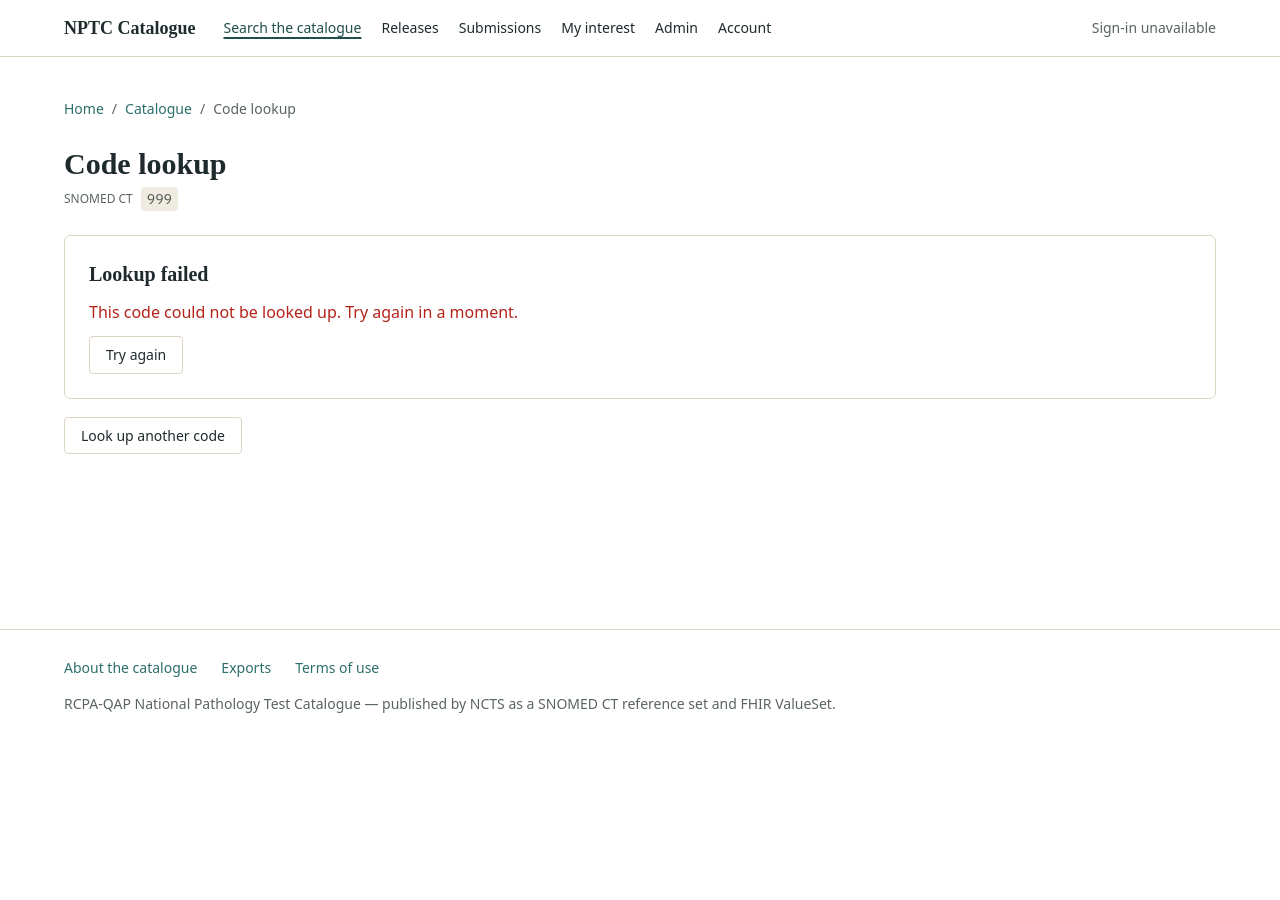
Test: a lookup the server refuses or cannot answer › shows the no-match answer when a retry finds the code has no entry
Expected: the element "Lookup failed" is shown, [64, 234, 1216, 398]
Click the button "Try again": x=136, y=354 [89, 336, 183, 374]
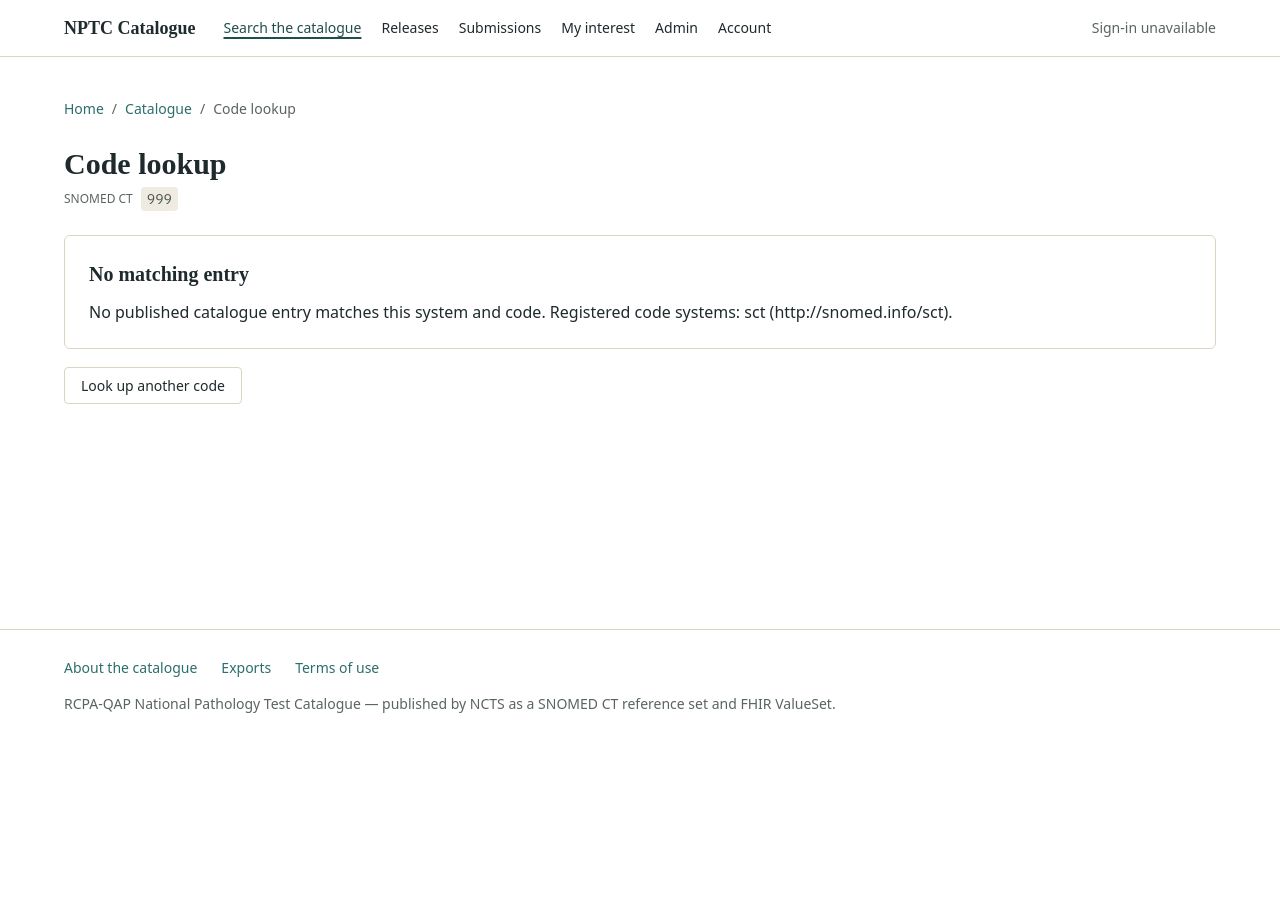
Now the element "No matching entry" is shown, box [64, 234, 1216, 348]
Now the heading "Lookup failed" is gone
